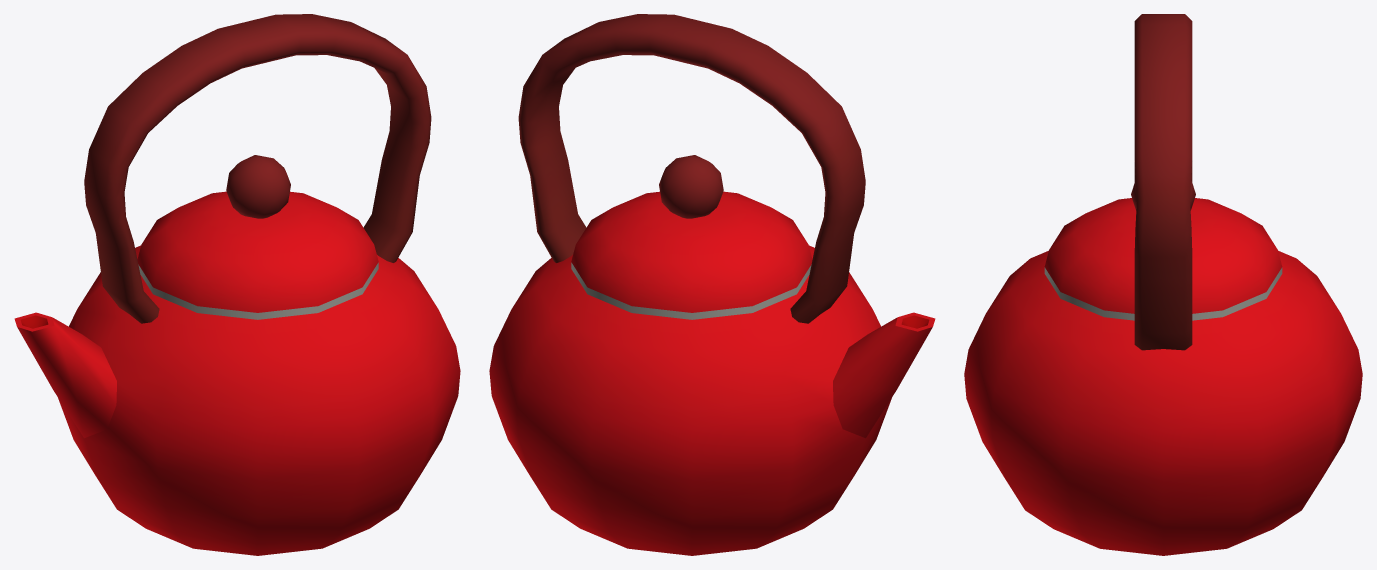
The model's file is Tea_kettle_02.fbx.
3 renders of one model, left to right at view 1: azimuth 30°, elevation 25°; view 2: azimuth 150°, elevation 25°; view 3: azimuth 270°, elevation 25°, orthographic.
Visible parts, largest first — view 1: Tea_kettle_02, Tea_kettle_cup_02; view 2: Tea_kettle_02, Tea_kettle_cup_02; view 3: Tea_kettle_02, Tea_kettle_cup_02.
Part boxes in pixels (x1,y1,x2,y2): Tea_kettle_02: (14,14,460,555); Tea_kettle_cup_02: (137,155,378,312); Tea_kettle_02: (489,14,935,555); Tea_kettle_cup_02: (571,155,812,312); Tea_kettle_02: (964,14,1362,555); Tea_kettle_cup_02: (1044,180,1282,313).
Bounding box in the file's own units: 75.63 × 82.65 × 63.78.
